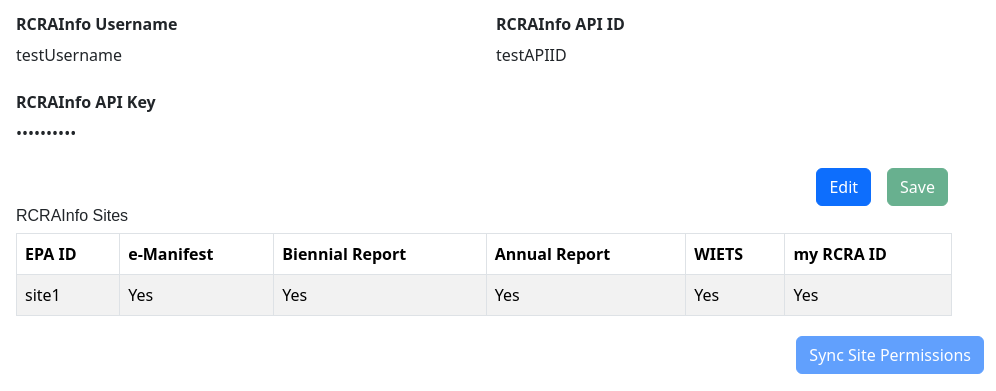
RcraProfile Component › toggles edit mode correctly
What coordinates should you click on to do the following:
click the button "Edit"
I would click on:
 (844, 187)
Its box is [816,168,871,206].
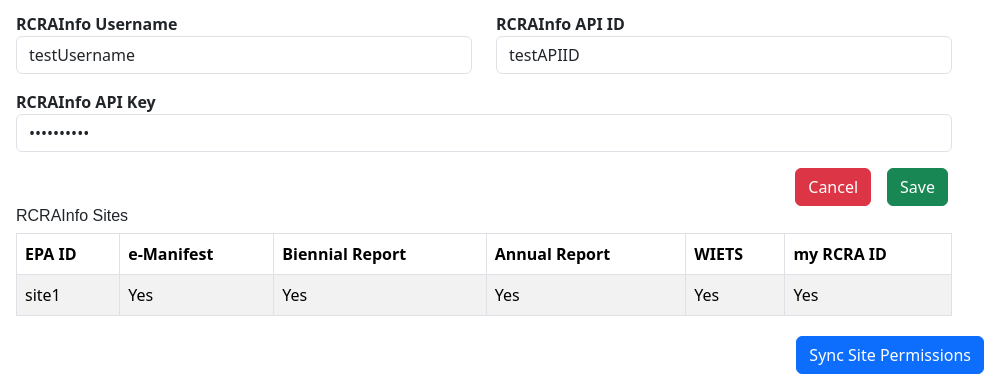
expect the button "Cancel" is shown: met, box [795,168,871,206]
expect the button "Save" is enabled: met, box [887,168,948,206]
